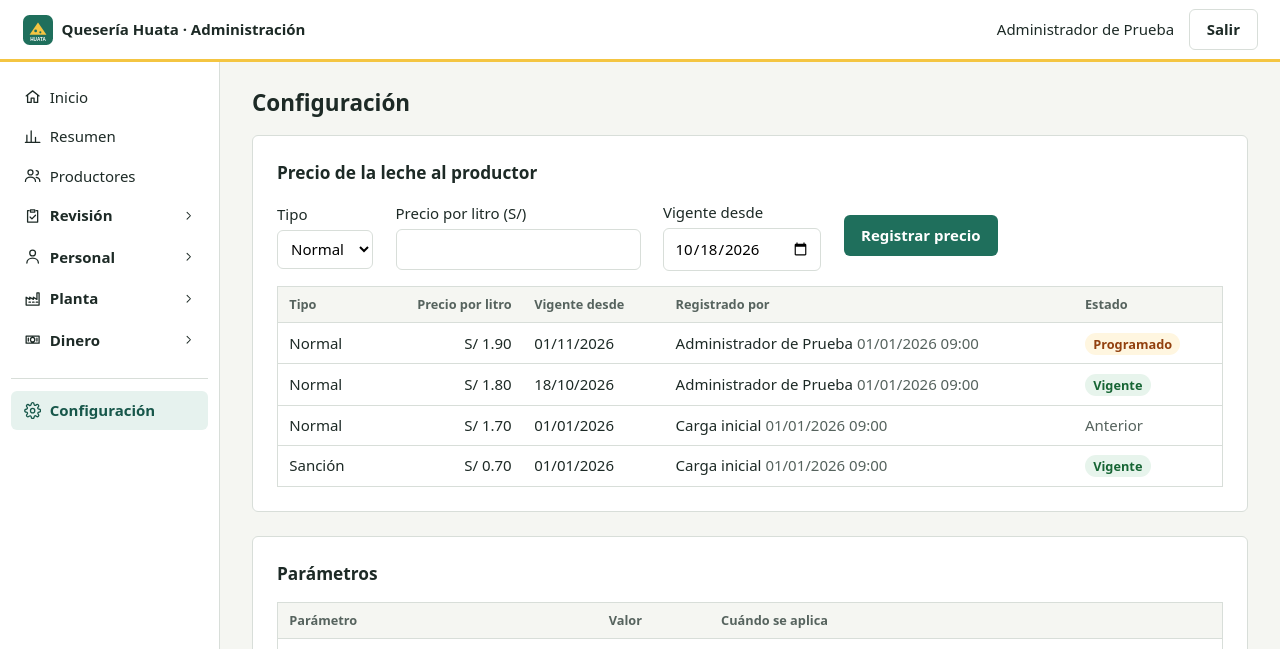
Test: configuración: precio de la leche › registrar: confirma qué cambia (incluido lo no liquidado) y envía tipo, precio y fecha
The image size is (1280, 649).
Expected: the table named "Historial de precios" is shown, [277,286,1223,487]
Select "Sanción" in the dropdown labelled "Tipo" at (325,249), box [277,230,373,269]
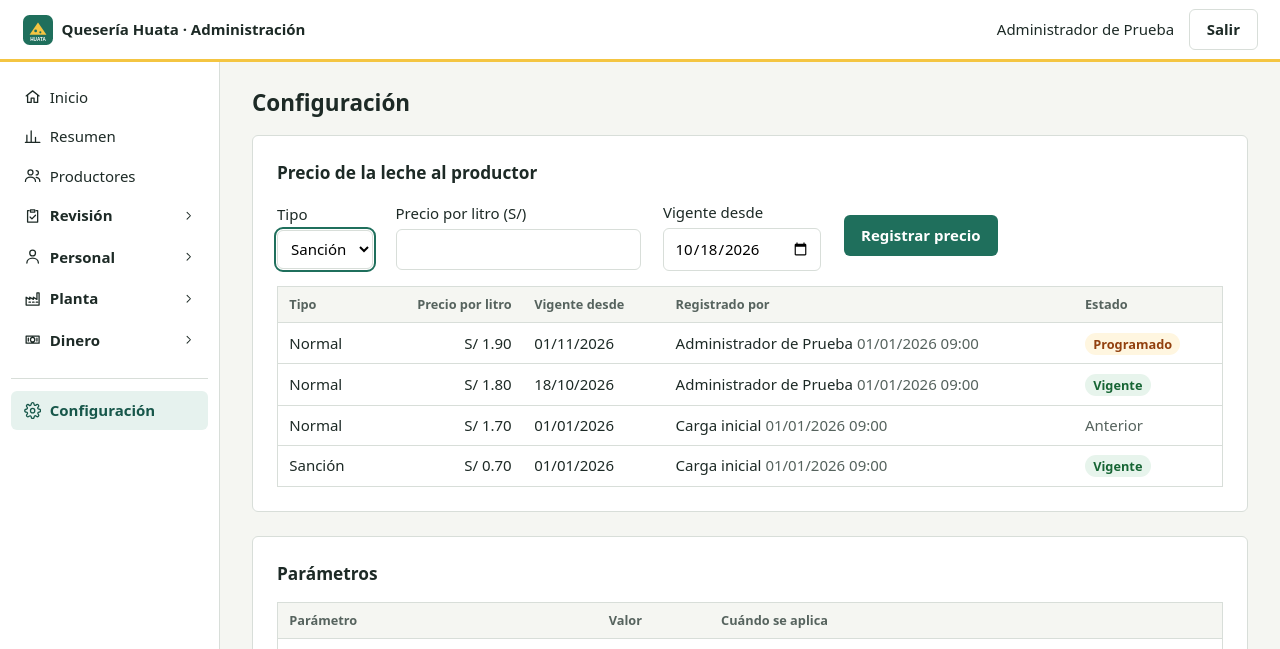
Type "0.75" into the field labelled "Precio por litro (S/)" at (518,249), box [396,229,640,270]
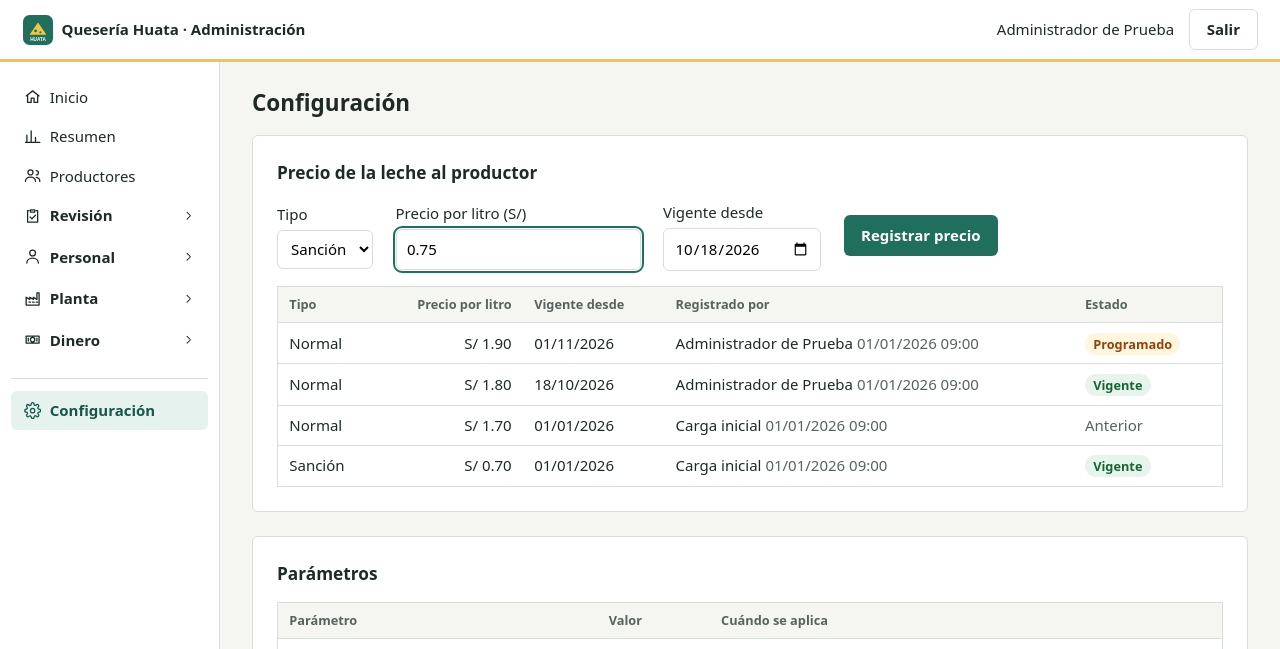
Expected: the date field labelled "Vigente desde" holds "2026-10-18", [663,228,821,271]
Click the button "Registrar precio" at (921,236), box [844,215,998,256]
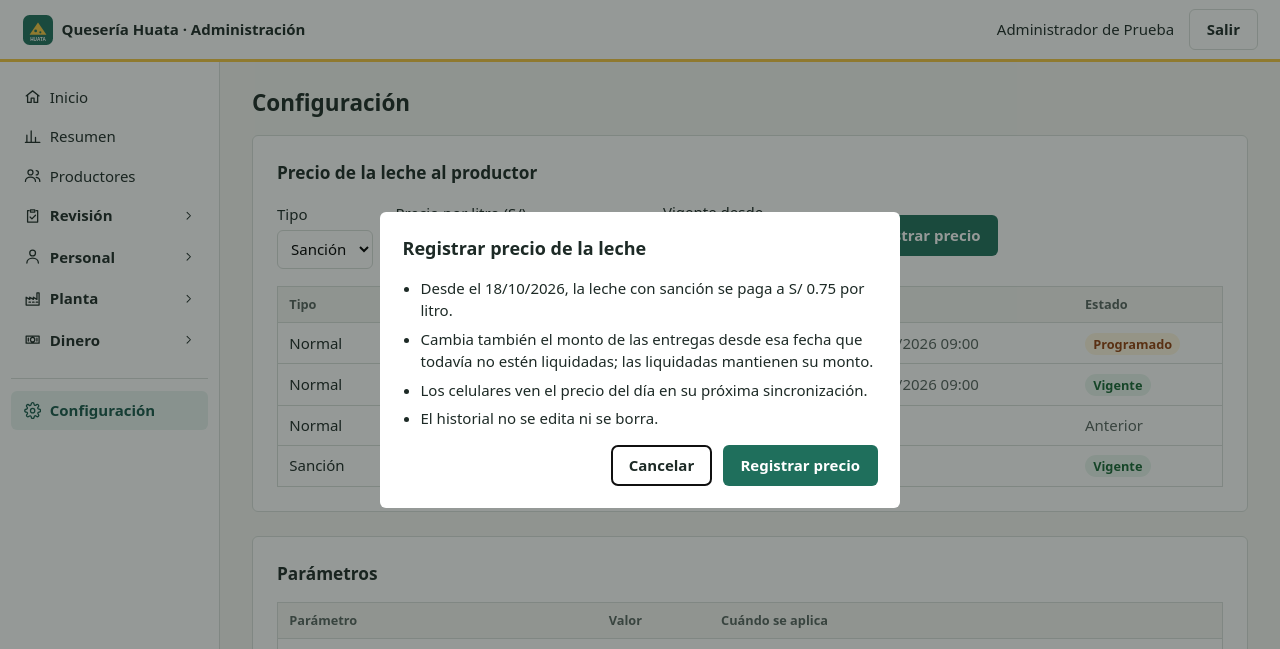
Expected: the dialog "Registrar precio de la leche" shows "Desde el 18/10/2026, la leche con sanción se paga a S/ 0.75 por litro.", [380,212,900,508]
Expected: the dialog "Registrar precio de la leche" shows "Cambia también el monto de las entregas desde esa fecha que todavía no estén liquidadas", [420,328,873,371]
Expected: the dialog "Registrar precio de la leche" shows "El historial no se edita ni se borra.", [420,408,658,428]
Click the button "Registrar precio" at (800,465), box [723,444,878,486]
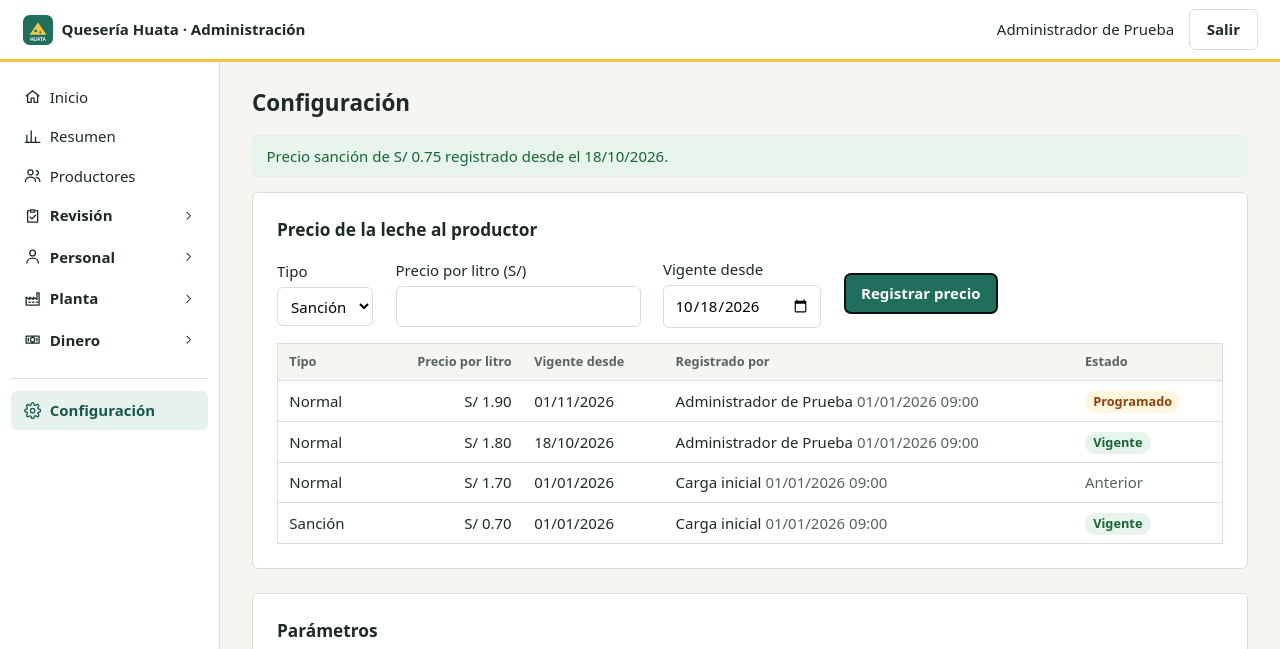
Expected: the dialog is gone
Expected: the message reads "Precio sanción de S/ 0.75 registrado desde el 18/10/2026.", [266,146,668,166]
